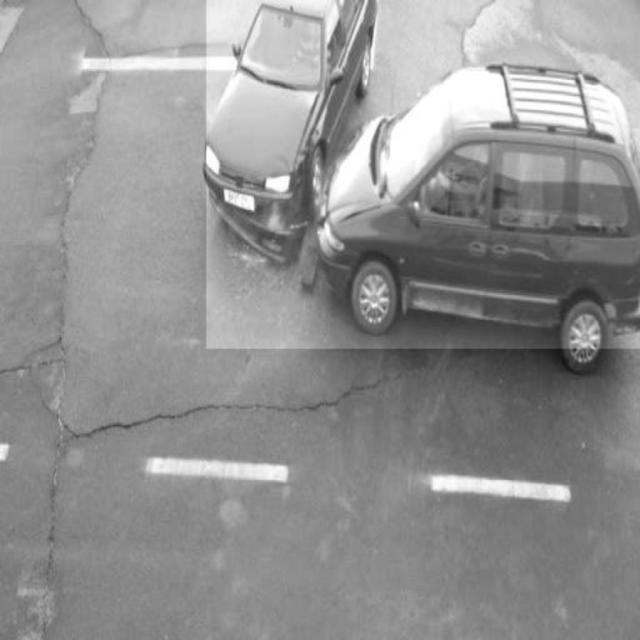accident: (206, 0, 639, 348)
